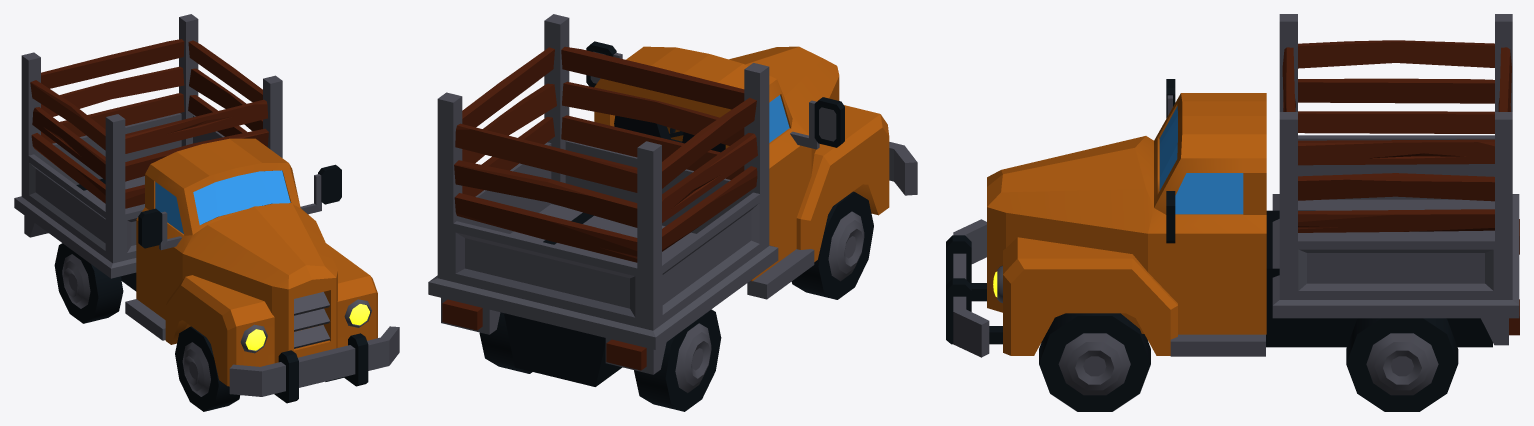
File: Truck.fbx
3 views of the same model, side by side, from view 1: azimuth 30°, elevation 25°; view 2: azimuth 150°, elevation 25°; view 3: azimuth 270°, elevation 25° (orthographic). The views are drawn at different scales.
Visible parts, largest first — view 1: Truck; view 2: Truck; view 3: Truck.
Boxes of the visible parts, x1,y1,x2,y2 form: Truck: (14, 14, 399, 411); Truck: (428, 14, 917, 411); Truck: (946, 14, 1519, 411).
Bounding box in the file's own units: 81.7 × 91.53 × 159.
